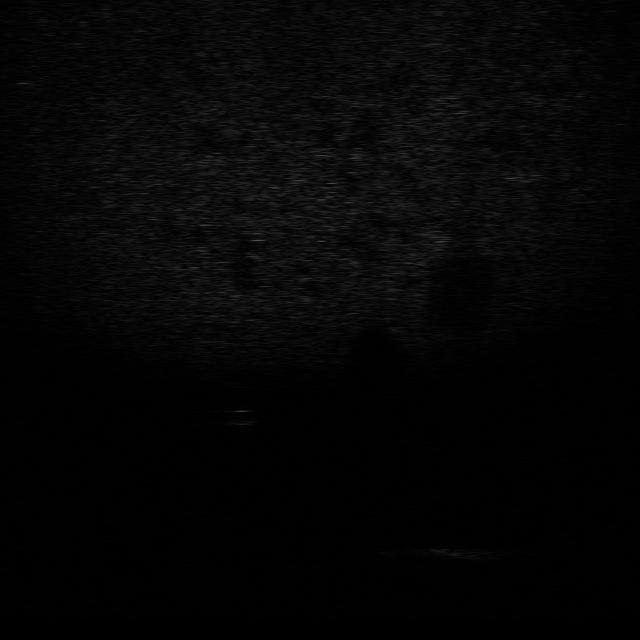ball: (422, 542, 500, 562)
square cage: (220, 407, 260, 426)
tyre: (344, 518, 405, 558)
